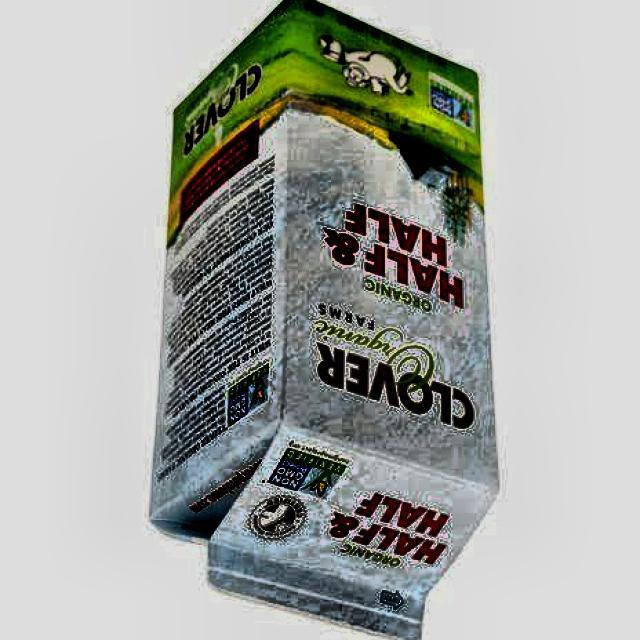cardboard: (149, 0, 502, 640)
